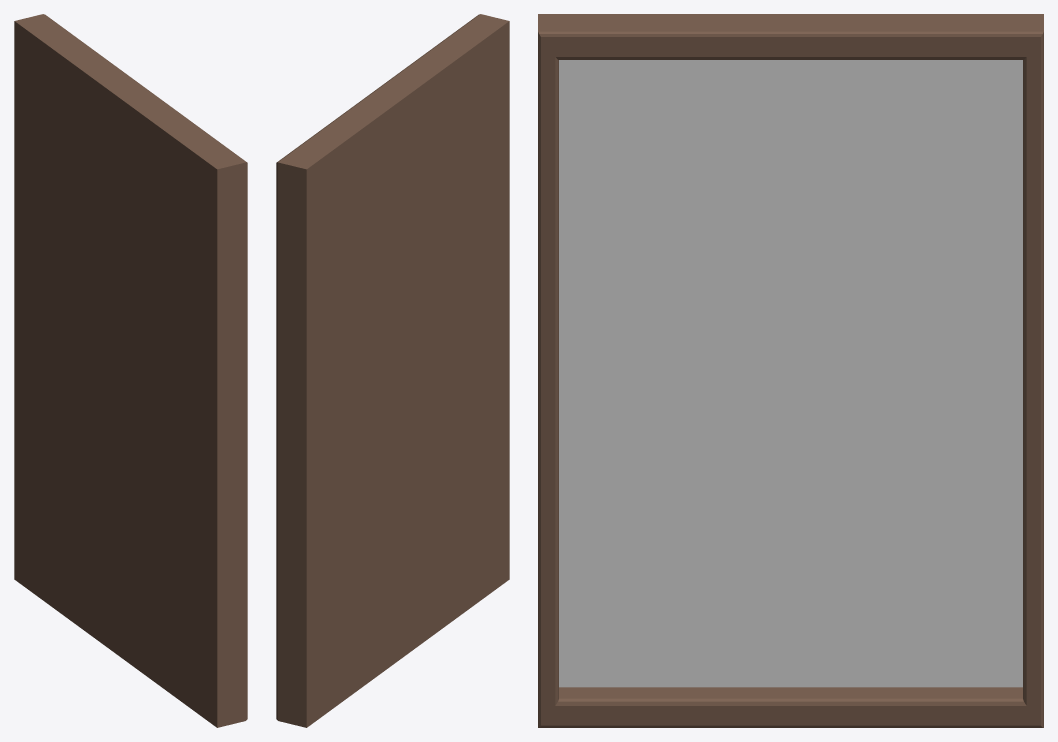
Rendered from poster.fbx.
3 views of the same model, side by side, from view 1: azimuth 30°, elevation 25°; view 2: azimuth 150°, elevation 25°; view 3: azimuth 270°, elevation 25° (orthographic). The views are drawn at different scales.
Visible parts, largest first — view 1: poster2; view 2: poster2; view 3: poster2.
Part boxes in pixels (box(x1,y1,x2,y2)): poster2: box(14, 14, 247, 727); poster2: box(276, 14, 509, 727); poster2: box(538, 14, 1043, 727).
Bounding box in the file's own units: 63.73 × 1082 × 712.
